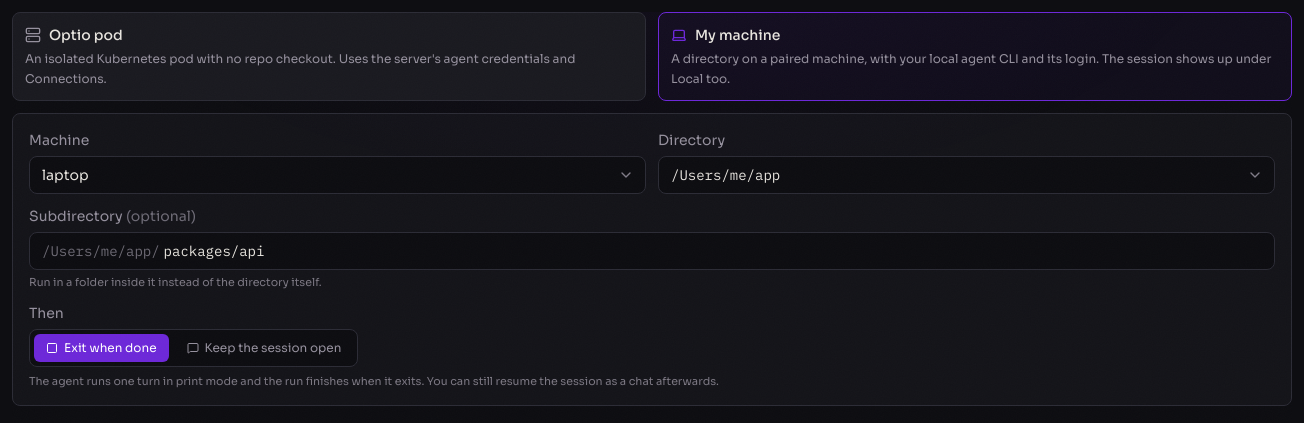
Test: RunLocationPicker on my machine › lets a run use a subdirectory of an allowlisted directory (#622)
Expected: the 2nd dropdown shows "/Users/me/app", 658,156 -> 1275,194
Step 1. Replace the text in the field labelled "Subdirectory (optional)" with "packages/web" → [713, 251], box 164,241 -> 1262,261
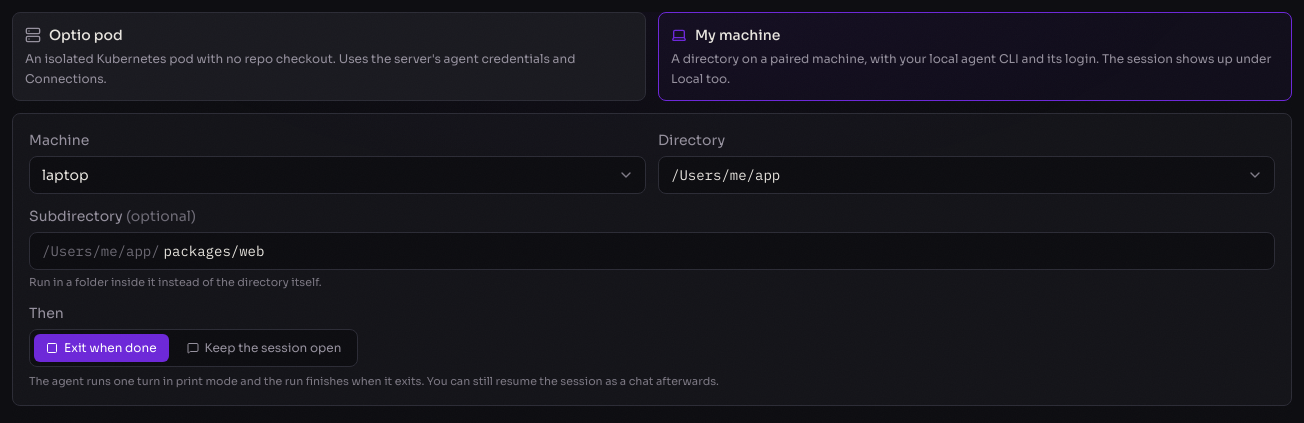
Step 2. Replace the text in the field labelled "Subdirectory (optional)" with "../secrets" → [713, 251], box 164,241 -> 1262,261
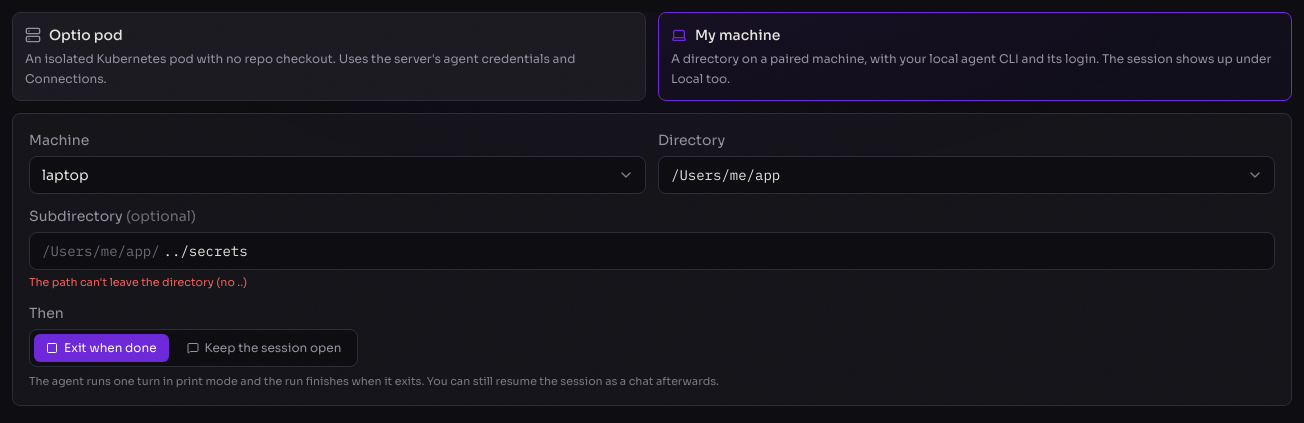
Expected: the text "The path can't leave the directory (no ..)" is shown, 29,275 -> 247,289
